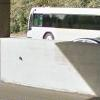Bus: (23, 2, 98, 47)
